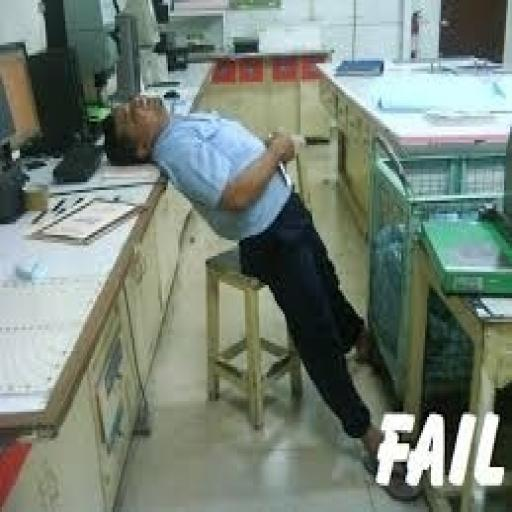sleeping: (103, 87, 423, 491)
